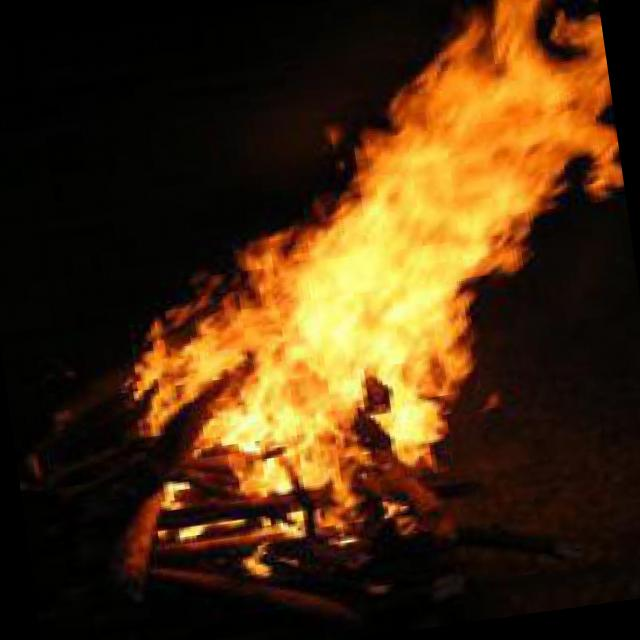fire: (64, 0, 640, 581)
